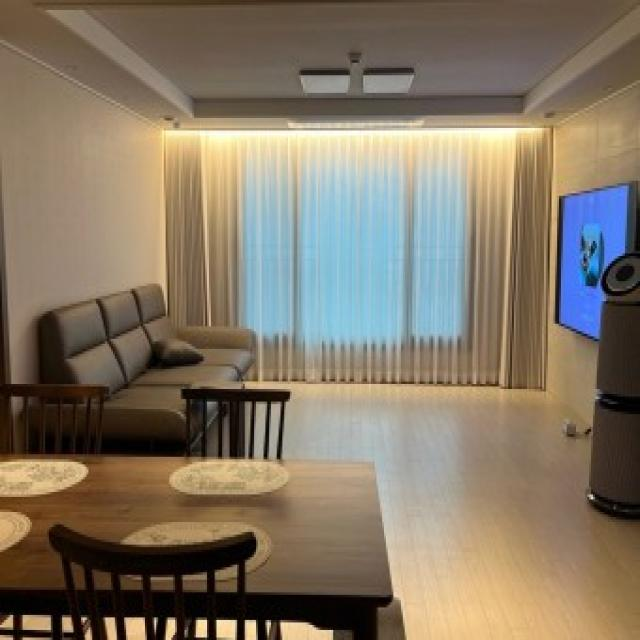Sofa: (35, 279, 256, 426)
Table: (5, 444, 396, 635)
tv: (559, 181, 631, 338)
window: (166, 134, 534, 330)
